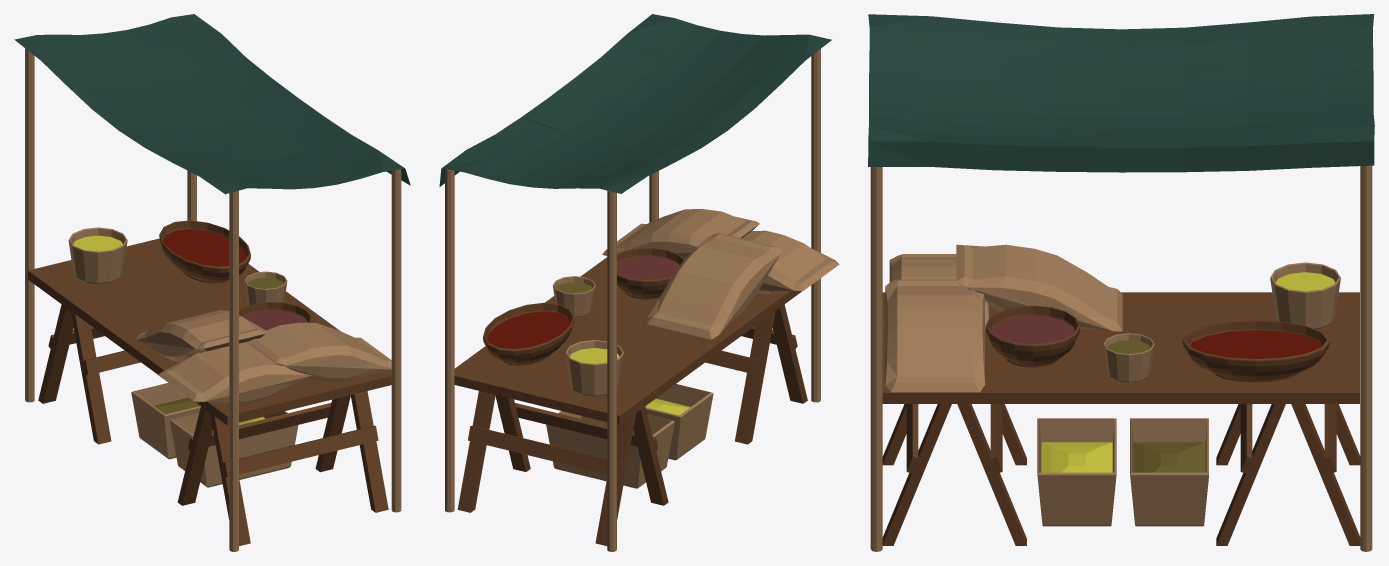
The model's file is NEU! Bohnenstand .fbx.
3 renders of one model, left to right at view 1: azimuth 30°, elevation 25°; view 2: azimuth 150°, elevation 25°; view 3: azimuth 270°, elevation 25°, orthographic. The views are drawn at different scales.
Visible parts, largest first — view 1: Bohnenstand; view 2: Bohnenstand; view 3: Bohnenstand.
Part boxes in pixels (bbox=[...]): Bohnenstand: bbox=[14, 14, 410, 551]; Bohnenstand: bbox=[439, 14, 839, 551]; Bohnenstand: bbox=[868, 14, 1374, 551].
Bounding box in the file's own units: 475 × 802 × 850.
